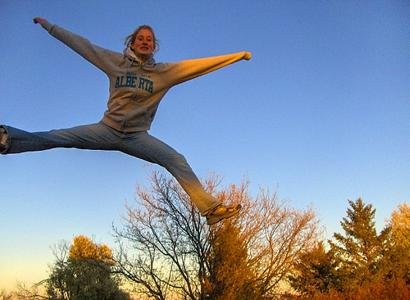person: (1, 16, 254, 229)
